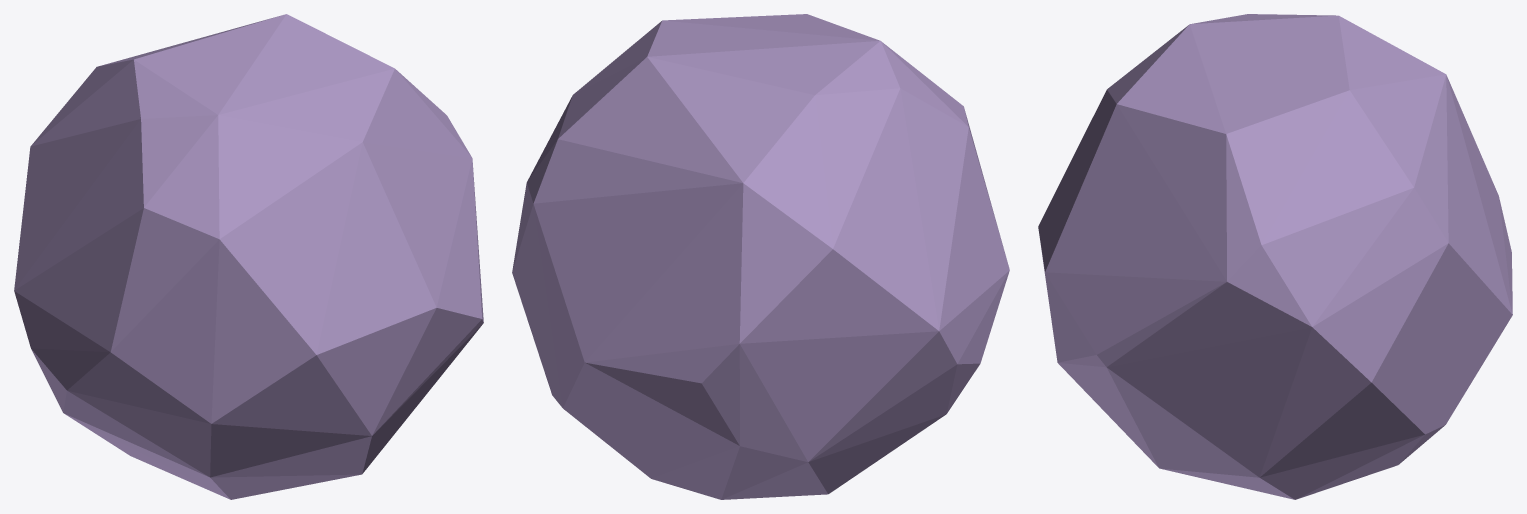
File: misc_golfBall_a04.glb
3 renders of one model, left to right at view 1: azimuth 30°, elevation 25°; view 2: azimuth 150°, elevation 25°; view 3: azimuth 270°, elevation 25°, orthographic. The views are drawn at different scales.
Parts seen in each view (by area): view 1: geometry_0; view 2: geometry_0; view 3: geometry_0.
Part boxes in pixels (bbox=[...]): geometry_0: bbox=[14, 14, 483, 499]; geometry_0: bbox=[512, 14, 1009, 499]; geometry_0: bbox=[1038, 14, 1512, 499].
Size of the model in its own units: 0.4689 by 0.444 by 0.4621.
